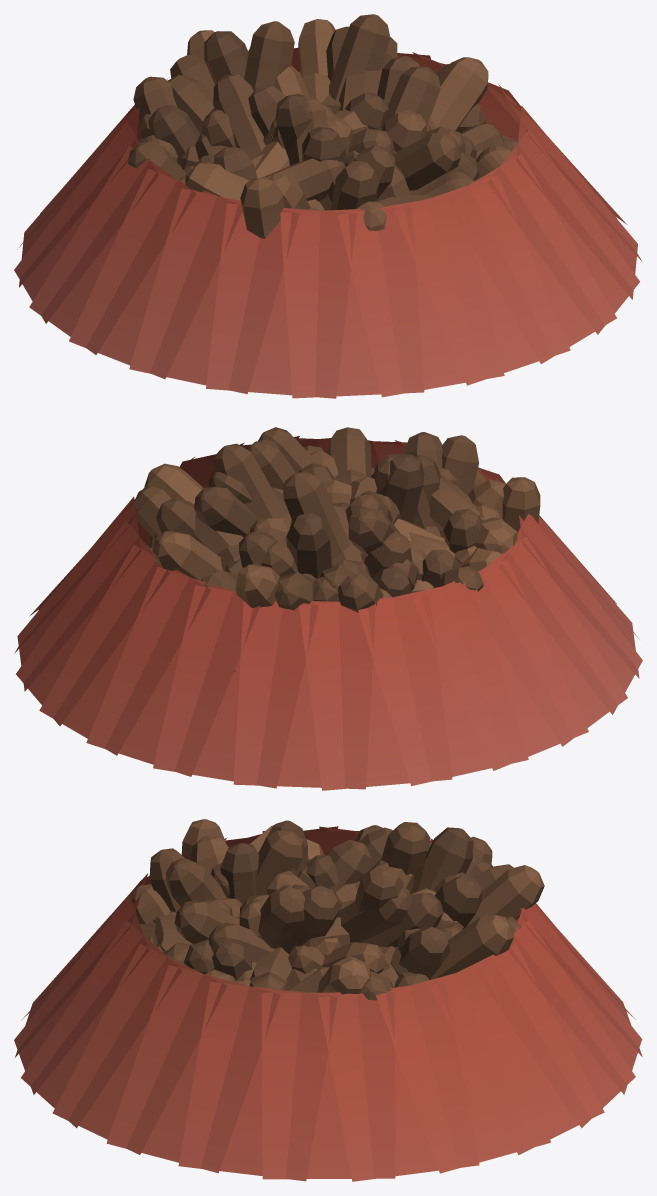
Rendered from Bowlfood.fbx.
3 renders of one model, top to bottom at view 1: azimuth 30°, elevation 25°; view 2: azimuth 150°, elevation 25°; view 3: azimuth 270°, elevation 25°, orthographic.
Visible parts, largest first — view 1: Paint; view 2: Paint; view 3: Paint.
Part boxes in pixels (bbox=[...]): Paint: bbox=[14, 14, 641, 398]; Paint: bbox=[14, 427, 642, 790]; Paint: bbox=[14, 819, 642, 1181].
Size of the model in its own units: 9.65 by 3.85 by 9.66.
